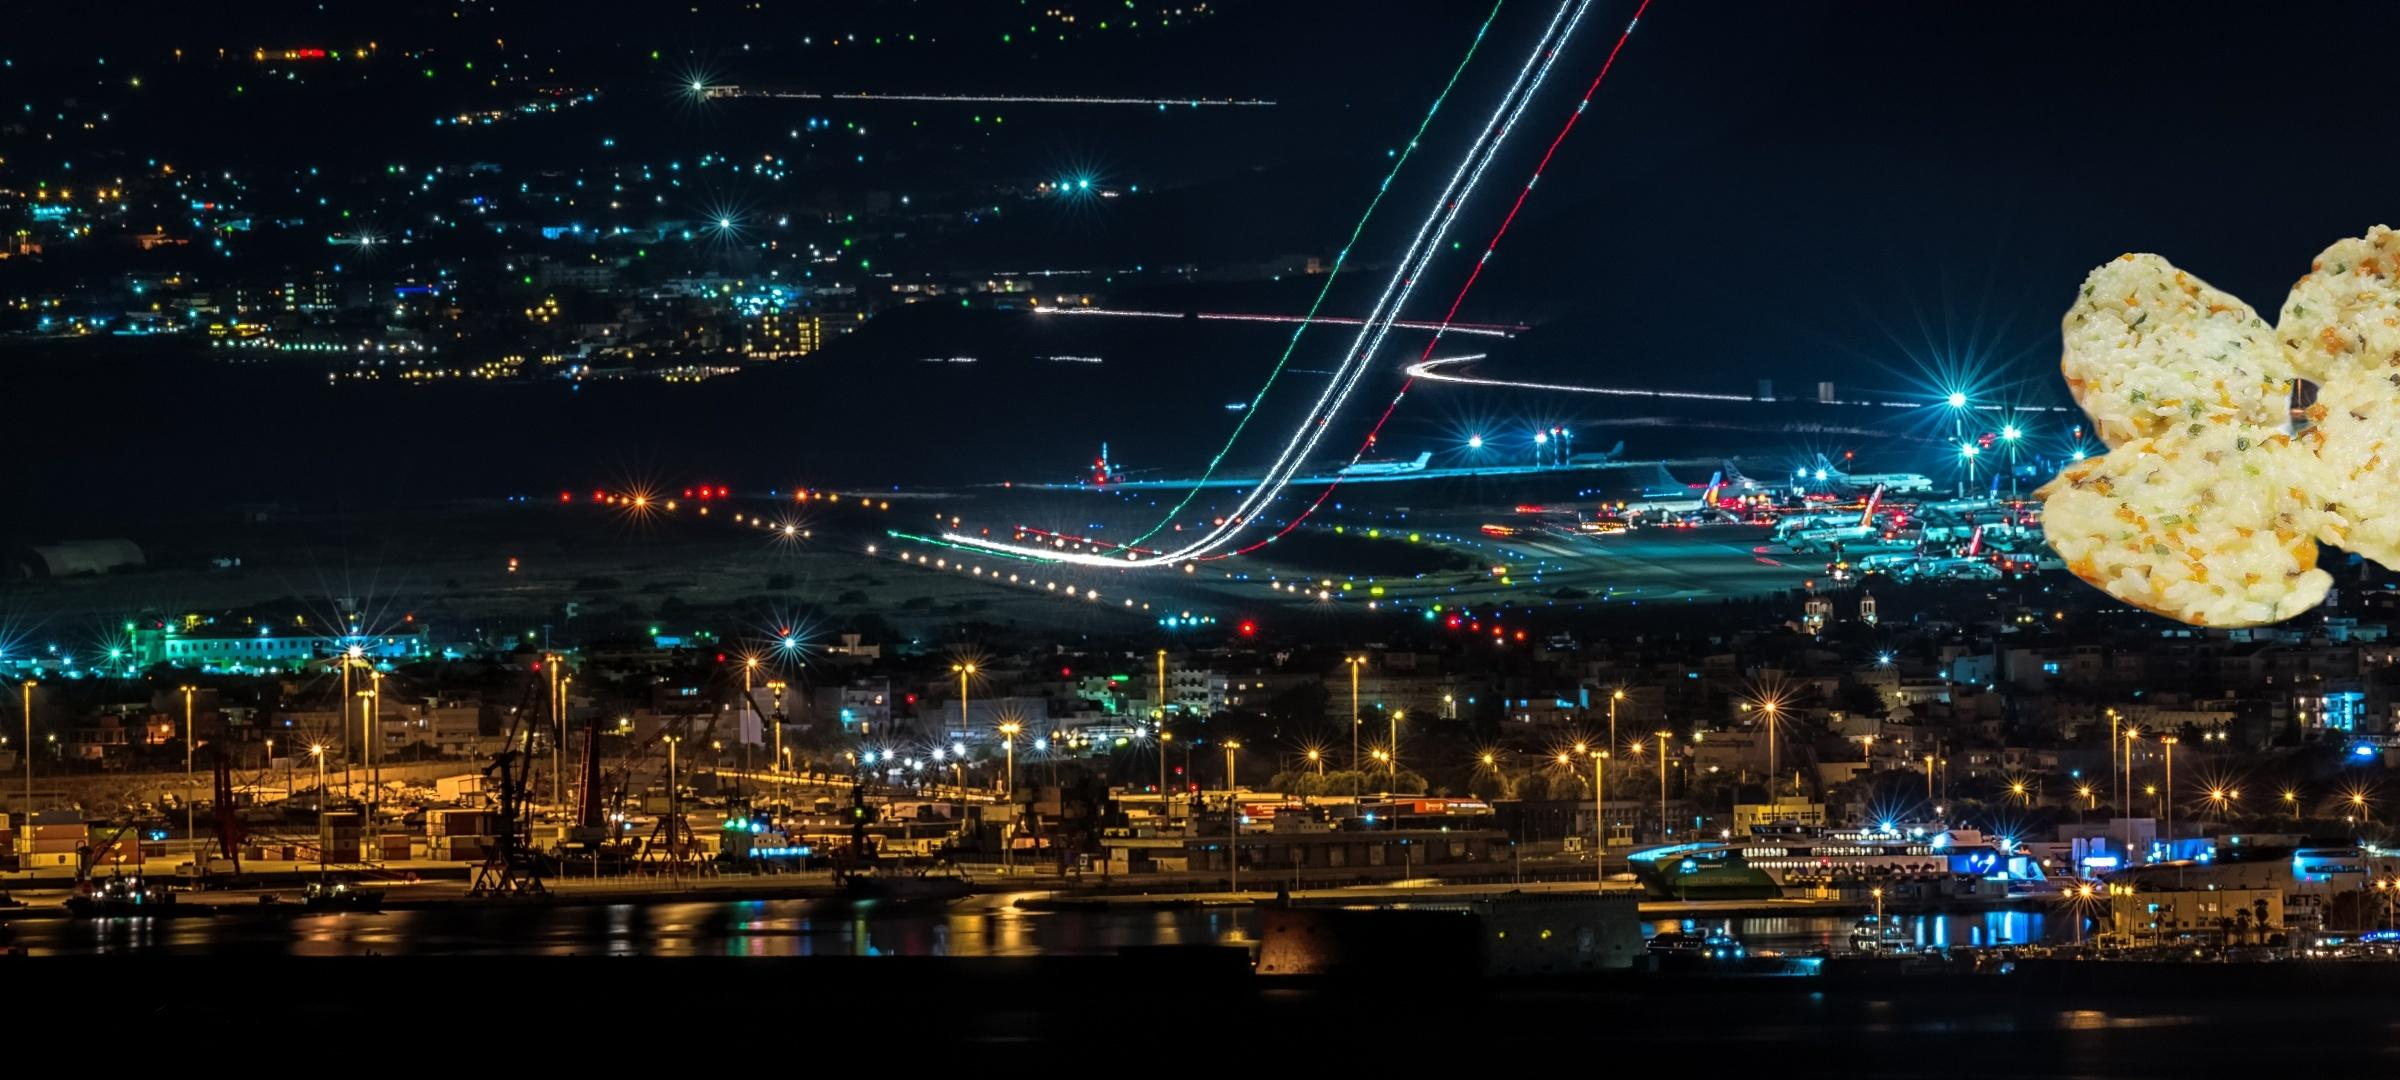biological: (1984, 219, 2400, 633)
penholder: (2385, 925, 2400, 1080)
